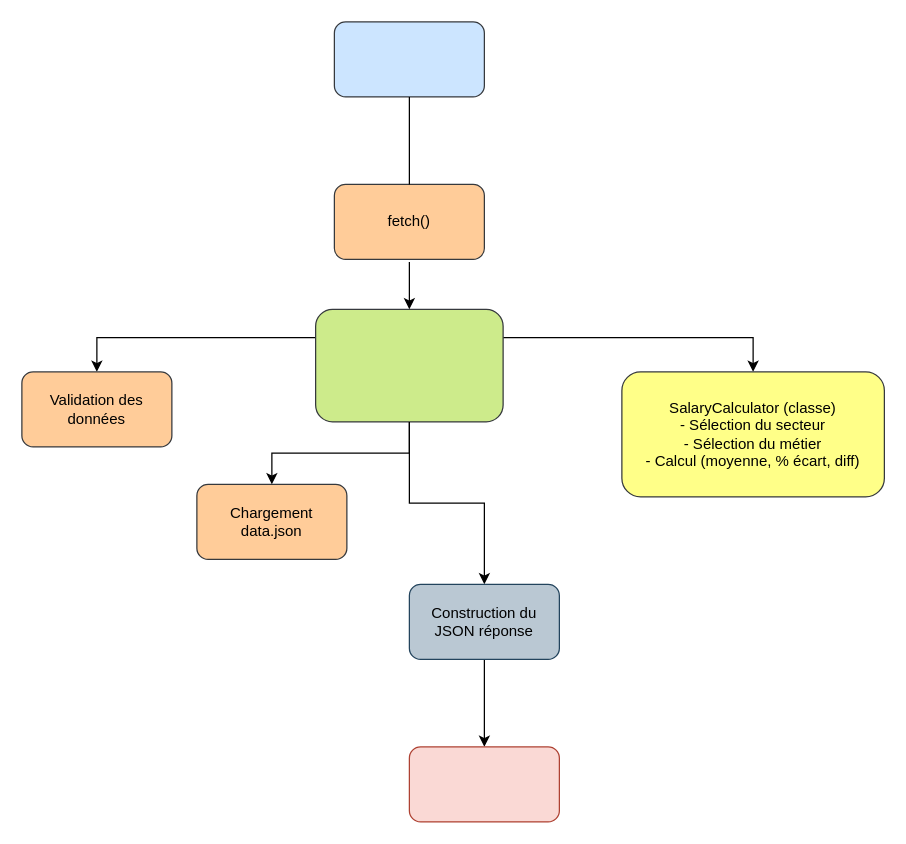
Image size: 906x844. Some labels were removed from this diagram. Here are the shapes that lost their labels. From the top down, the box of each, then its label:
(333, 21, 484, 97): Form (Front-End)
(314, 308, 503, 422): calculate.php
(408, 746, 559, 822): Retour au Front-End
